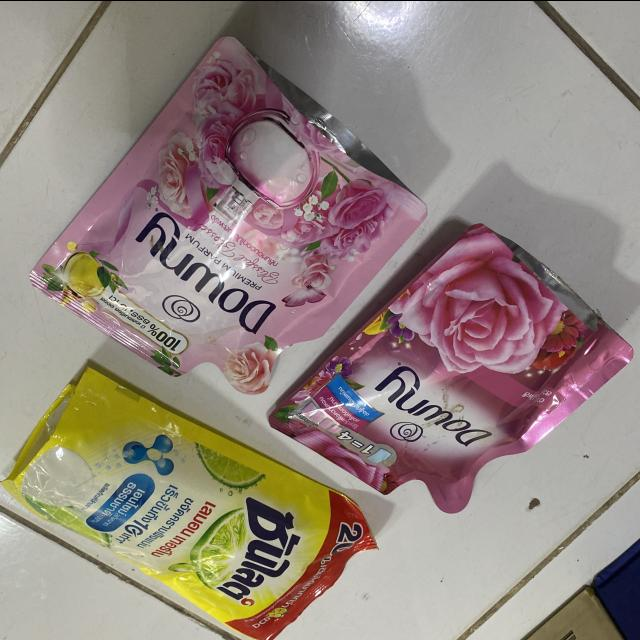plastik: (31, 36, 426, 394), (269, 224, 633, 512), (3, 367, 377, 640)
